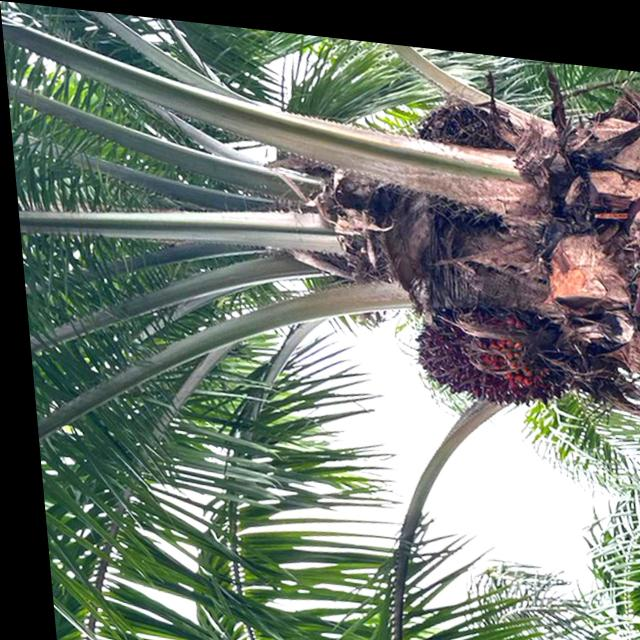ripe: (401, 291, 547, 397)
